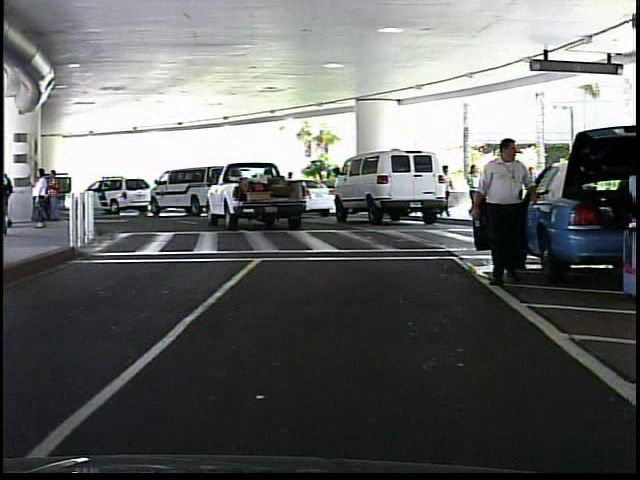person: (468, 130, 534, 289), (629, 147, 640, 280), (464, 161, 484, 221), (438, 160, 455, 221), (281, 168, 299, 214)
